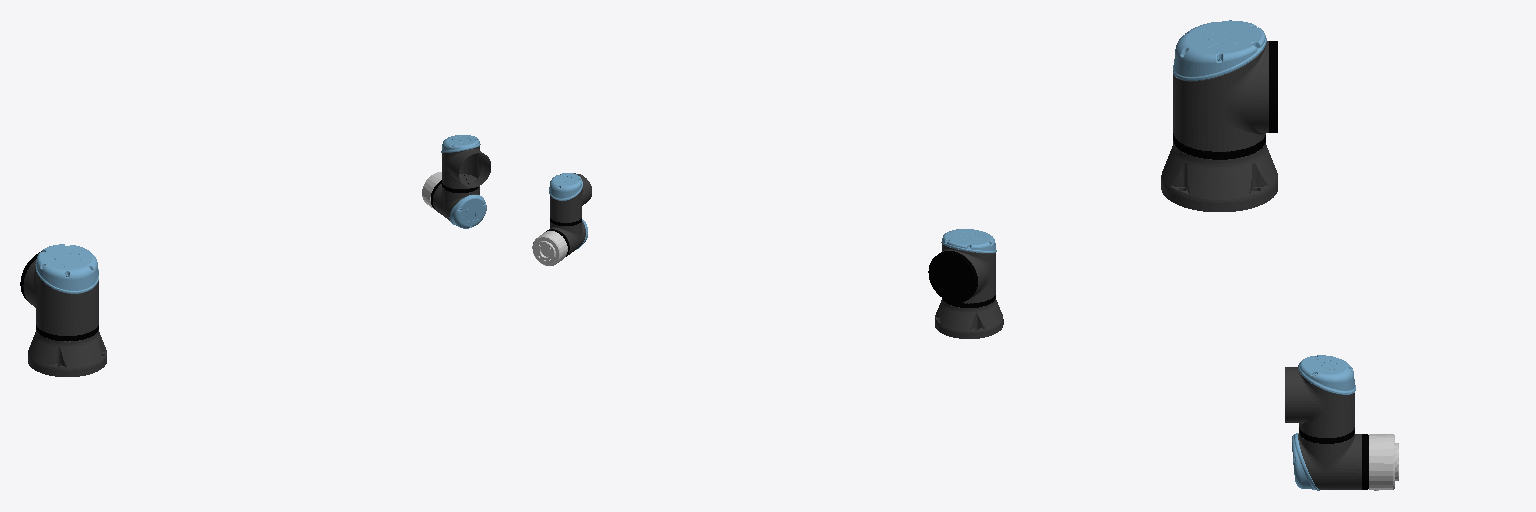
robot.urdf — ur10e:
<?xml version="1.0" ?>
<!-- =================================================================================== -->
<!-- |    This document was autogenerated by xacro from ur.urdf.xacro                  | -->
<!-- |    EDITING THIS FILE BY HAND IS NOT RECOMMENDED                                 | -->
<!-- =================================================================================== -->
<robot name="ur10e">
  <!--
    Base UR robot series xacro macro.

    NOTE this is NOT a URDF. It cannot directly be loaded by consumers
    expecting a flattened '.urdf' file. See the top-level '.xacro' for that
    (but note that .xacro must still be processed by the xacro command).

    This file models the base kinematic chain of a UR robot, which then gets
    parameterised by various configuration files to convert it into a UR3(e),
    UR5(e), UR10(e) or UR16e.

    NOTE the default kinematic parameters (i.e., link lengths, frame locations,
    offsets, etc) do not correspond to any particular robot. They are defaults
    only. There WILL be non-zero offsets between the Forward Kinematics results
    in TF (i.e., robot_state_publisher) and the values reported by the Teach
    Pendant.

    For accurate (and robot-specific) transforms, the 'kinematics_parameters_file'
    parameter MUST point to a .yaml file containing the appropriate values for
    the targeted robot.

    If using the UniversalRobots/Universal_Robots_ROS_Driver, follow the steps
    described in the readme of that repository to extract the kinematic
    calibration from the controller and generate the required .yaml file.

    Main author of the migration to yaml configs [author].

    Contributors to previous versions (in no particular order)

     - [author]
     - [author]
     - [author]
     - [author]
     - [author]
     - [author]
     - [author]
     - [author]
     - [author]
     - [author]
     - [author]
     - [author]
     - [author]
     - [author]
     - [author]
     - [author]
     - [author]
     - [author]
     - [author]
  -->
  <!-- create link fixed to the "world" -->
  <link name="world"/>
  <!-- links -  main serial chain -->
  <!-- base_link serves as the root of the robot's kinematic tree. It follows REP-103
        conventions (i.e., X+ forward, Y+ left, Z+ up).
        Since some kinematic solvers forbid having inertia values attached to a root link, we've
        added the base_link_inertia link that carries the visual, collision and inertia
        information.
    -->
  <link name="base_link"/>
  <link name="base_link_inertia">
    <visual>
      <origin rpy="0 0 3.141592653589793" xyz="0 0 0"/>
      <geometry>
        <mesh filename="../meshes/ur10e/visual/base.dae"/>
      </geometry>
    </visual>
    <collision>
      <origin rpy="0 0 3.141592653589793" xyz="0 0 0"/>
      <geometry>
        <mesh filename="../meshes/ur10e/collision/base.stl"/>
      </geometry>
    </collision>
    <inertial>
      <mass value="4.0"/>
      <origin rpy="0 0 0" xyz="0 0 0"/>
      <inertia ixx="0.0061063308908" ixy="0.0" ixz="0.0" iyy="0.0061063308908" iyz="0.0" izz="0.01125"/>
    </inertial>
  </link>
  <link name="shoulder_link">
    <visual>
      <origin rpy="0 0 3.141592653589793" xyz="0 0 0"/>
      <geometry>
        <mesh filename="../meshes/ur10e/visual/shoulder.dae"/>
      </geometry>
    </visual>
    <collision>
      <origin rpy="0 0 3.141592653589793" xyz="0 0 0"/>
      <geometry>
        <mesh filename="../meshes/ur10e/collision/shoulder.stl"/>
      </geometry>
    </collision>
    <inertial>
      <mass value="7.369"/>
      <origin rpy="1.570796326794897 0 0" xyz="0.021 -0.027 0.0"/>
      <inertia ixx="0.03408" ixy="2e-05" ixz="-0.00425" iyy="0.03529" iyz="8e-05" izz="0.02156"/>
    </inertial>
  </link>
  <link name="upper_arm_link">
    <visual>
      <origin rpy="1.5707963267948966 0 -1.5707963267948966" xyz="0 0 0.1762"/>
      <geometry>
        <mesh filename="../meshes/ur10e/visual/upperarm.dae"/>
      </geometry>
    </visual>
    <collision>
      <origin rpy="1.5707963267948966 0 -1.5707963267948966" xyz="0 0 0.1762"/>
      <geometry>
        <mesh filename="../meshes/ur10e/collision/upperarm.stl"/>
      </geometry>
    </collision>
    <inertial>
      <mass value="13.051"/>
      <origin rpy="0 0 0" xyz="-0.2327 0.0 0.158"/>
      <inertia ixx="0.02814" ixy="5e-05" ixz="-0.01561" iyy="0.77068" iyz="2e-05" izz="0.76943"/>
    </inertial>
  </link>
  <link name="forearm_link">
    <visual>
      <origin rpy="1.5707963267948966 0 -1.5707963267948966" xyz="0 0 0.0393"/>
      <geometry>
        <mesh filename="../meshes/ur10e/visual/forearm.dae"/>
      </geometry>
    </visual>
    <collision>
      <origin rpy="1.5707963267948966 0 -1.5707963267948966" xyz="0 0 0.0393"/>
      <geometry>
        <mesh filename="../meshes/ur10e/collision/forearm.stl"/>
      </geometry>
    </collision>
    <inertial>
      <mass value="3.989"/>
      <origin rpy="0 0 0" xyz="-0.33155 0.0 0.068"/>
      <inertia ixx="0.01014" ixy="8e-05" ixz="0.00916" iyy="0.30928" iyz="0.0" izz="0.30646"/>
    </inertial>
  </link>
  <link name="wrist_1_link">
    <visual>
      <origin rpy="1.5707963267948966 0 0" xyz="0 0 -0.135"/>
      <geometry>
        <mesh filename="../meshes/ur10e/visual/wrist1.dae"/>
      </geometry>
    </visual>
    <collision>
      <origin rpy="1.5707963267948966 0 0" xyz="0 0 -0.135"/>
      <geometry>
        <mesh filename="../meshes/ur10e/collision/wrist1.stl"/>
      </geometry>
    </collision>
    <inertial>
      <mass value="2.1"/>
      <origin rpy="1.570796326794897 0 0" xyz="0.0 -0.018 0.007"/>
      <inertia ixx="0.00296" ixy="-1e-05" ixz="0.0" iyy="0.00222" iyz="-0.00024" izz="0.00258"/>
    </inertial>
  </link>
  <link name="wrist_2_link">
    <visual>
      <origin rpy="0 0 0" xyz="0 0 -0.12"/>
      <geometry>
        <mesh filename="../meshes/ur10e/visual/wrist2.dae"/>
      </geometry>
    </visual>
    <collision>
      <origin rpy="0 0 0" xyz="0 0 -0.12"/>
      <geometry>
        <mesh filename="../meshes/ur10e/collision/wrist2.stl"/>
      </geometry>
    </collision>
    <inertial>
      <mass value="1.98"/>
      <origin rpy="-1.570796326794897 0 0" xyz="0.0 0.018 -0.007"/>
      <inertia ixx="0.00296" ixy="-1e-05" ixz="0.0" iyy="0.00222" iyz="-0.00024" izz="0.00258"/>
    </inertial>
  </link>
  <link name="wrist_3_link">
    <visual>
      <origin rpy="1.5707963267948966 0 0" xyz="0 0 -0.1168"/>
      <geometry>
        <mesh filename="../meshes/ur10e/visual/wrist3.dae"/>
      </geometry>
    </visual>
    <collision>
      <origin rpy="1.5707963267948966 0 0" xyz="0 0 -0.1168"/>
      <geometry>
        <mesh filename="../meshes/ur10e/collision/wrist3.stl"/>
      </geometry>
    </collision>
    <inertial>
      <mass value="0.615"/>
      <origin rpy="0 0 0" xyz="0.0 0.0 -0.026"/>
      <inertia ixx="0.0004" ixy="0.0" ixz="0.0" iyy="0.00041" iyz="0.0" izz="0.00034"/>
    </inertial>
  </link>
  <!-- base_joint fixes base_link to the environment -->
  <joint name="base_joint" type="fixed">
    <origin rpy="0 0 0" xyz="0 0 0"/>
    <parent link="world"/>
    <child link="base_link"/>
  </joint>
  <!-- joints - main serial chain -->
  <joint name="base_link-base_link_inertia" type="fixed">
    <parent link="base_link"/>
    <child link="base_link_inertia"/>
    <!-- 'base_link' is REP-103 aligned (so X+ forward), while the internal
           frames of the robot/controller have X+ pointing backwards.
           Use the joint between 'base_link' and 'base_link_inertia' (a dummy
           link/frame) to introduce the necessary rotation over Z (of pi rad).
      -->
    <origin rpy="0 0 3.141592653589793" xyz="0 0 0"/>
  </joint>
  <joint name="shoulder_pan_joint" type="revolute">
    <parent link="base_link_inertia"/>
    <child link="shoulder_link"/>
    <origin rpy="0 0 0" xyz="0 0 0.1807"/>
    <axis xyz="0 0 1"/>
    <limit effort="330.0" lower="-6.283185307179586" upper="6.283185307179586" velocity="2.0943951023931953"/>
    <dynamics damping="0" friction="0"/>
  </joint>
  <joint name="shoulder_lift_joint" type="revolute">
    <parent link="shoulder_link"/>
    <child link="upper_arm_link"/>
    <origin rpy="1.570796327 0 0" xyz="0 0 0"/>
    <axis xyz="0 0 1"/>
    <limit effort="330.0" lower="-6.283185307179586" upper="6.283185307179586" velocity="2.0943951023931953"/>
    <dynamics damping="0" friction="0"/>
  </joint>
  <joint name="elbow_joint" type="revolute">
    <parent link="upper_arm_link"/>
    <child link="forearm_link"/>
    <origin rpy="0 0 0" xyz="-0.6127 0 0"/>
    <axis xyz="0 0 1"/>
    <limit effort="150.0" lower="-3.141592653589793" upper="3.141592653589793" velocity="3.141592653589793"/>
    <dynamics damping="0" friction="0"/>
  </joint>
  <joint name="wrist_1_joint" type="revolute">
    <parent link="forearm_link"/>
    <child link="wrist_1_link"/>
    <origin rpy="0 0 0" xyz="-0.57155 0 0.17415"/>
    <axis xyz="0 0 1"/>
    <limit effort="54.0" lower="-6.283185307179586" upper="6.283185307179586" velocity="3.141592653589793"/>
    <dynamics damping="0" friction="0"/>
  </joint>
  <joint name="wrist_2_joint" type="revolute">
    <parent link="wrist_1_link"/>
    <child link="wrist_2_link"/>
    <origin rpy="1.570796327 0 0" xyz="0 -0.11985 -2.458164590756244e-11"/>
    <axis xyz="0 0 1"/>
    <limit effort="54.0" lower="-6.283185307179586" upper="6.283185307179586" velocity="3.141592653589793"/>
    <dynamics damping="0" friction="0"/>
  </joint>
  <joint name="wrist_3_joint" type="revolute">
    <parent link="wrist_2_link"/>
    <child link="wrist_3_link"/>
    <origin rpy="1.570796326589793 3.141592653589793 3.141592653589793" xyz="0 0.11655 -2.390480459346185e-11"/>
    <axis xyz="0 0 1"/>
    <limit effort="54.0" lower="-6.283185307179586" upper="6.283185307179586" velocity="3.141592653589793"/>
    <dynamics damping="0" friction="0"/>
  </joint>
  <link name="ft_frame"/>
  <joint name="wrist_3_link-ft_frame" type="fixed">
    <parent link="wrist_3_link"/>
    <child link="ft_frame"/>
    <origin rpy="3.141592653589793 0 0" xyz="0 0 0"/>
  </joint>
  <!-- ROS-Industrial 'base' frame - base_link to UR 'Base' Coordinates transform -->
  <link name="base"/>
  <joint name="base_link-base_fixed_joint" type="fixed">
    <!-- Note the rotation over Z of pi radians - as base_link is REP-103
           aligned (i.e., has X+ forward, Y+ left and Z+ up), this is needed
           to correctly align 'base' with the 'Base' coordinate system of
           the UR controller.
      -->
    <origin rpy="0 0 3.141592653589793" xyz="0 0 0"/>
    <parent link="base_link"/>
    <child link="base"/>
  </joint>
  <!-- ROS-Industrial 'flange' frame - attachment point for EEF models -->
  <link name="flange"/>
  <joint name="wrist_3-flange" type="fixed">
    <parent link="wrist_3_link"/>
    <child link="flange"/>
    <origin rpy="0 -1.5707963267948966 -1.5707963267948966" xyz="0 0 0"/>
  </joint>
  <!-- ROS-Industrial 'tool0' frame - all-zeros tool frame -->
  <link name="tool0"/>
  <joint name="flange-tool0" type="fixed">
    <!-- default toolframe - X+ left, Y+ up, Z+ front -->
    <origin rpy="1.5707963267948966 0 1.5707963267948966" xyz="0 0 0"/>
    <parent link="flange"/>
    <child link="tool0"/>
  </joint>
</robot>

--- Facts derived from the render (not from the file) ---
The picture shows the robot from 3 angles, left to right: view 1: azimuth 30°, elevation 25°; view 2: azimuth 150°, elevation 25°; view 3: azimuth 270°, elevation 25°; orthographic projection.
Robot: ur10e — 13 links, 12 joints (6 revolute, 6 fixed); root link world; default pose: all joints at 0.
Visible links, largest first — view 1: shoulder_link, base_link_inertia, wrist_1_link, wrist_2_link; view 2: shoulder_link, base_link_inertia, wrist_1_link, wrist_3_link, wrist_2_link; view 3: shoulder_link, base_link_inertia, wrist_1_link, wrist_2_link, wrist_3_link.
Link boxes in pixels (x1,y1,x2,y2): shoulder_link: (20, 244, 98, 335); base_link_inertia: (28, 325, 106, 376); wrist_1_link: (441, 135, 490, 192); wrist_2_link: (431, 180, 486, 228); shoulder_link: (928, 229, 996, 303); base_link_inertia: (935, 295, 1003, 338); wrist_1_link: (549, 173, 591, 225); wrist_3_link: (532, 231, 567, 265); wrist_2_link: (546, 219, 587, 256); shoulder_link: (1173, 20, 1277, 151); base_link_inertia: (1161, 133, 1277, 211); wrist_1_link: (1285, 355, 1355, 443); wrist_2_link: (1292, 433, 1368, 490); wrist_3_link: (1369, 434, 1398, 490).
Bounding box of the posed robot: 1.33 × 0.3857 × 0.2746 m (x, y, z).
5 mesh visuals loaded from 7 distinct referenced files (5 Collada DAE); not drawn: 2 (reference not matched to a file when rendering).
